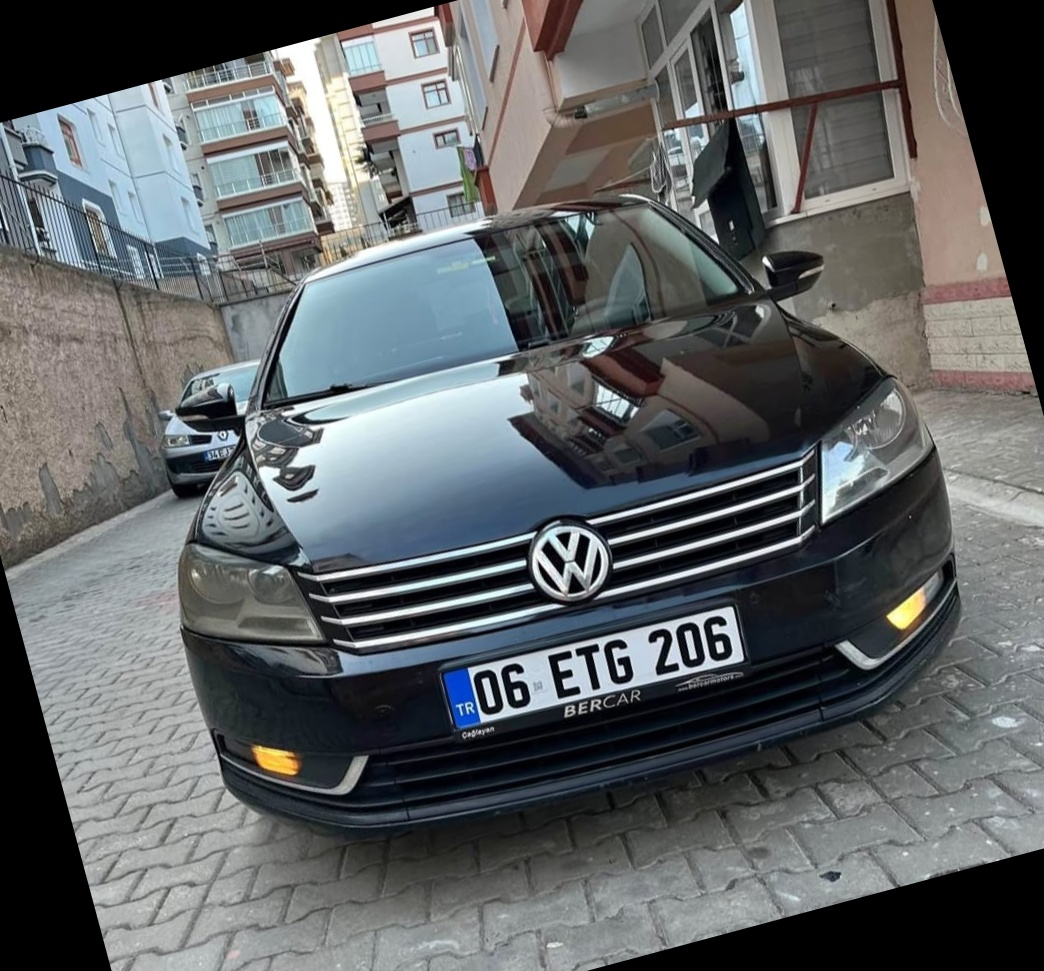plaka: (466, 609, 748, 723)
